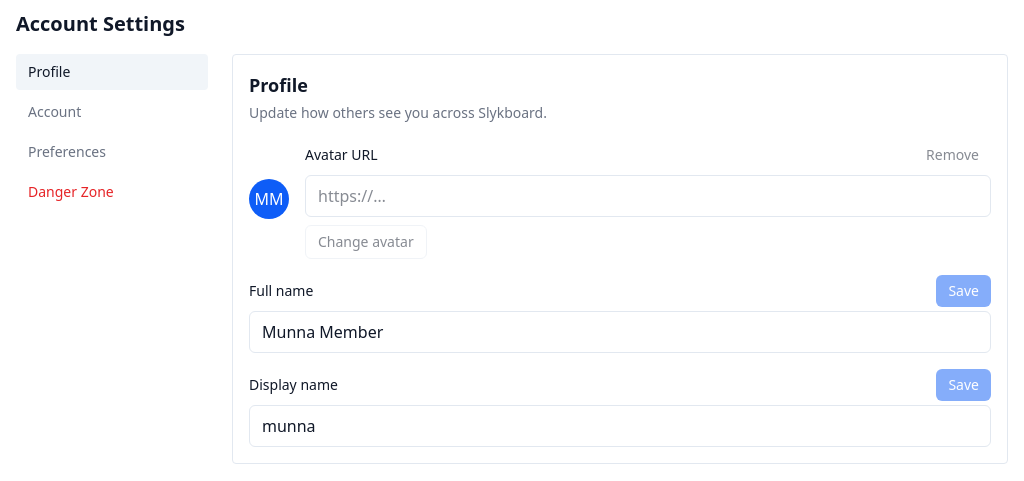
it: AccountSettingsPage › shows the Account section with read-only email, role badge, and user id
What coordinates should you click on to do the following:
click the button "Account"
I would click on:
 (112, 112)
Its box is [16,94,208,130].
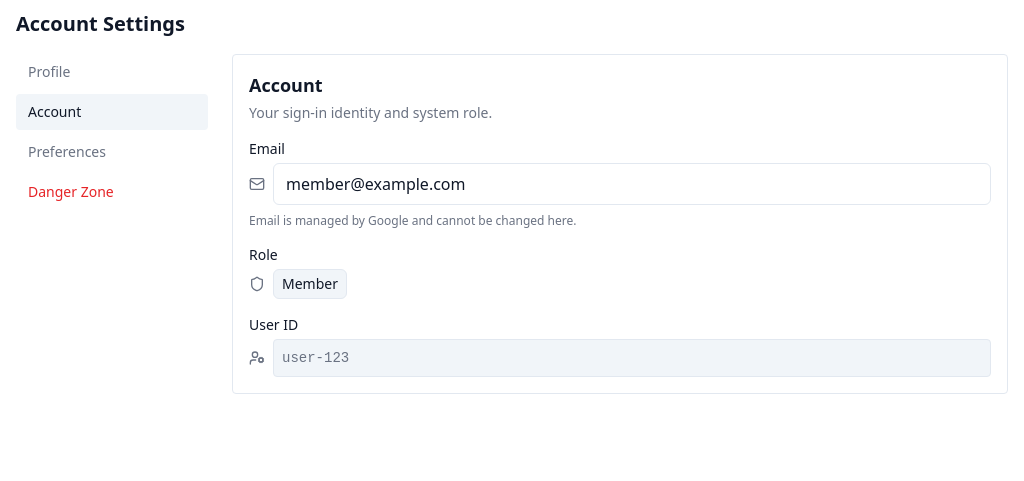
Expected: the heading "Account" is shown, [249,73,322,97]
Expected: the field labelled "Email" holds "member@example.com", [273,163,991,205]
Expected: the text "Member" is shown, [273,269,347,299]
